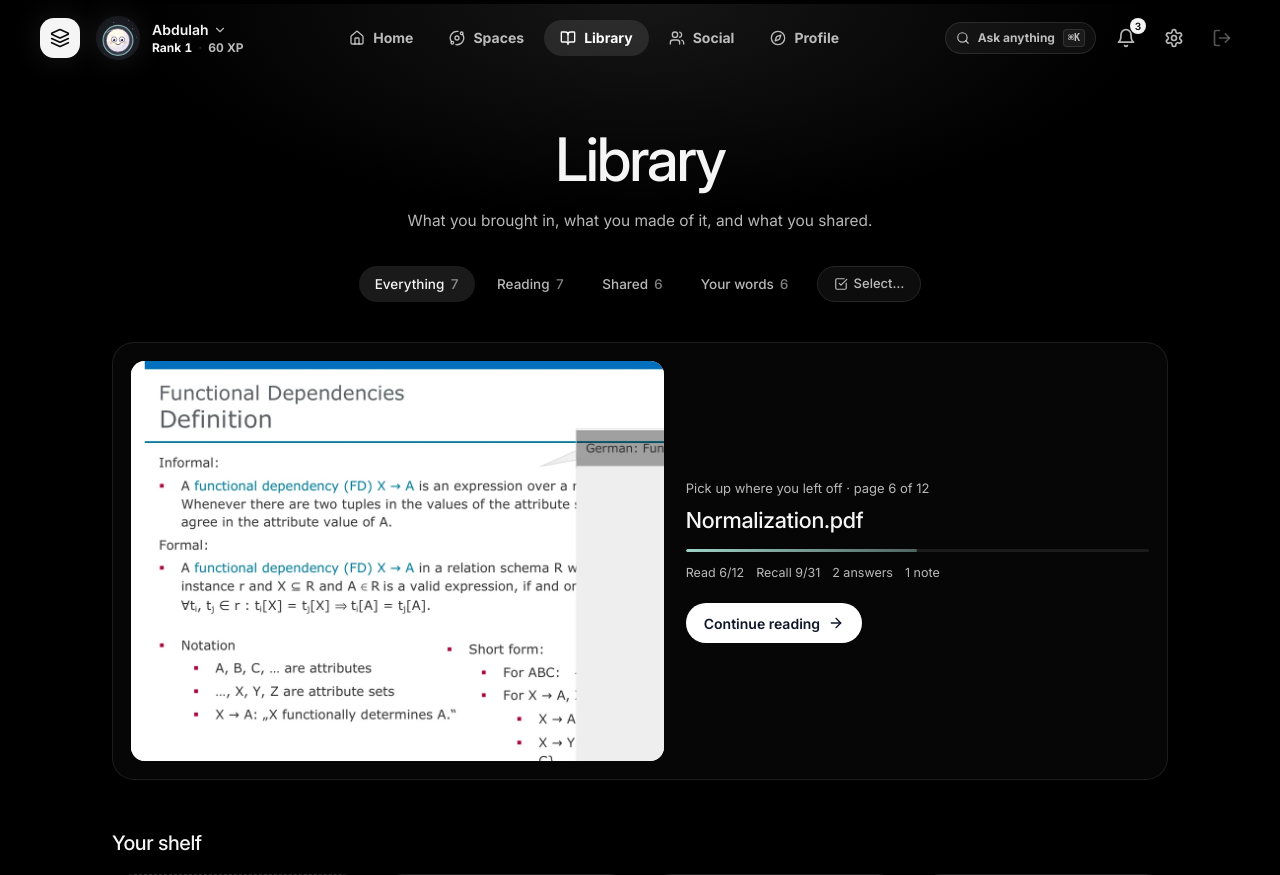
Test case: Continue › turns the page into its summary on hover
The image size is (1280, 875).
Hover over the link with aria-label "Continue reading" at (640, 561), box [112,342,1168,780]
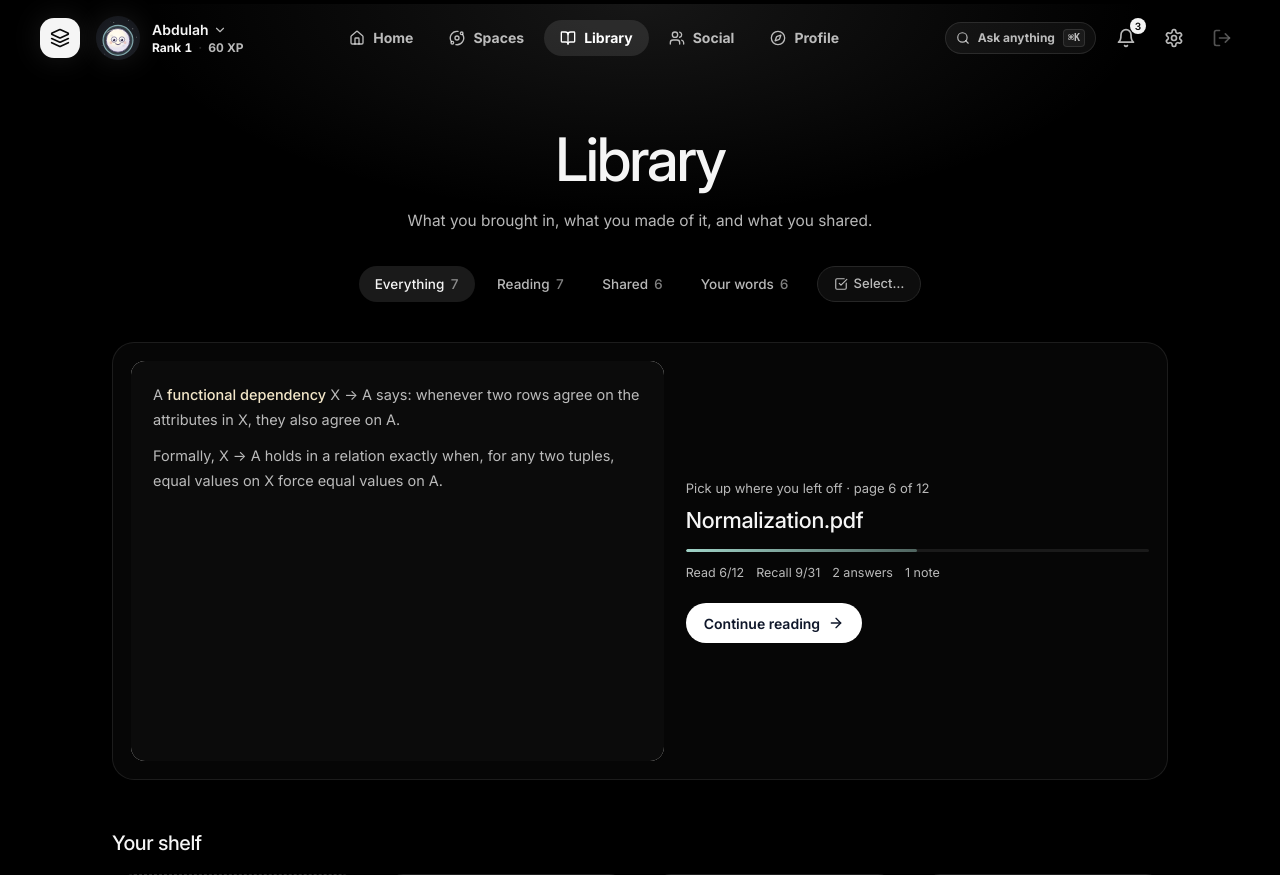
Check: the element that starts with "functional dependency" is shown, box [153,383,642,432]
